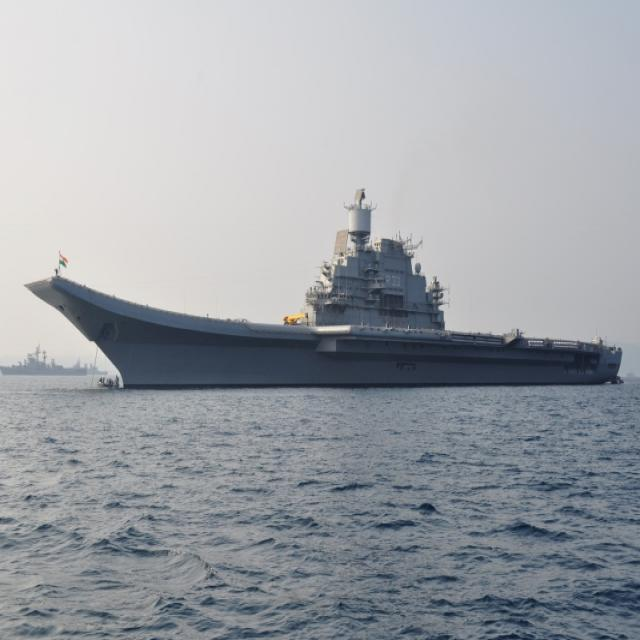Portanaves: (22, 178, 627, 397)
